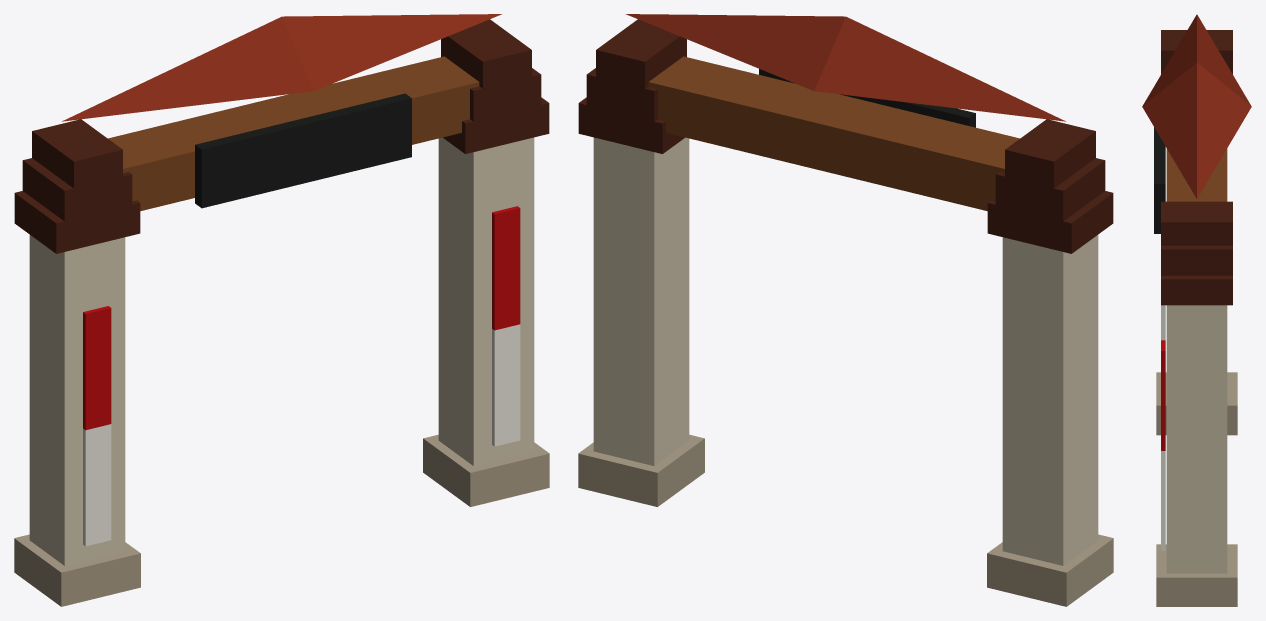
The model's file is GapuraKampung.obj.
3 views of the same model, side by side, from view 1: azimuth 30°, elevation 25°; view 2: azimuth 150°, elevation 25°; view 3: azimuth 270°, elevation 25° (orthographic). The views are drawn at different scales.
Visible parts, largest first — view 1: L_PILLAR, R_PILLAR, SIGN_ROOF, LINTEL, SIGN, L_BASE, R_BASE, L_CROWN_2, R_CROWN_2, L_CROWN_0, L_CROWN_1, L_RED (+5 smaller); view 2: L_PILLAR, R_PILLAR, LINTEL, SIGN_ROOF, L_BASE, R_BASE, L_CROWN_2, R_CROWN_2, L_CROWN_0, L_CROWN_1, R_CROWN_0, R_CROWN_1 (+1 smaller); view 3: R_PILLAR, SIGN_ROOF, R_BASE, R_CROWN_2, R_CROWN_0, R_CROWN_1, LINTEL, L_CROWN_2, L_BASE, SIGN, R_RED, R_WHITE (+1 smaller).
Part boxes in pixels (x1,y1,x2,y2): L_PILLAR: (29,235,125,565); R_PILLAR: (438,137,534,465); SIGN_ROOF: (62,14,501,121); LINTEL: (108,56,479,210); SIGN: (195,93,411,208); L_BASE: (14,534,140,606); R_BASE: (423,434,549,506); L_CROWN_2: (32,119,122,191); R_CROWN_2: (441,19,531,92); L_CROWN_0: (14,191,140,253); L_CROWN_1: (22,158,132,221); L_RED: (83,306,111,430); L_PILLAR: (1002,235,1098,565); R_PILLAR: (593,137,689,465); LINTEL: (648,56,1019,210); SIGN_ROOF: (626,14,1065,121); L_BASE: (987,534,1113,606); R_BASE: (578,434,704,506); L_CROWN_2: (1005,119,1095,191); R_CROWN_2: (596,19,686,92); L_CROWN_0: (987,191,1113,253); L_CROWN_1: (995,158,1105,221); R_CROWN_0: (578,97,684,153); R_CROWN_1: (586,68,657,121); R_PILLAR: (1166,305,1227,573); SIGN_ROOF: (1142,14,1251,198); R_BASE: (1156,544,1237,606); R_CROWN_2: (1161,201,1232,245); R_CROWN_0: (1161,275,1232,305); R_CROWN_1: (1161,245,1232,275); LINTEL: (1166,148,1227,201); L_CROWN_2: (1161,30,1232,73); L_BASE: (1156,372,1237,435); SIGN: (1154,127,1165,233); R_RED: (1161,340,1165,450); R_WHITE: (1161,451,1165,550).
Bounding box in the file's own units: 4.22 × 4.2 × 0.945.
